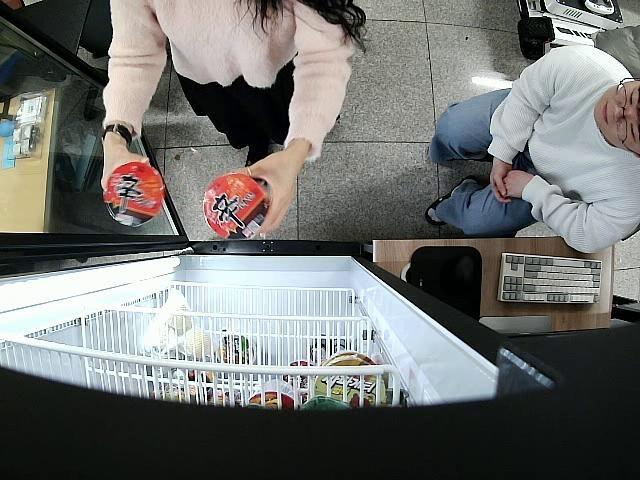02_shinRamen_S: (201, 174, 270, 240), (103, 161, 164, 225)
